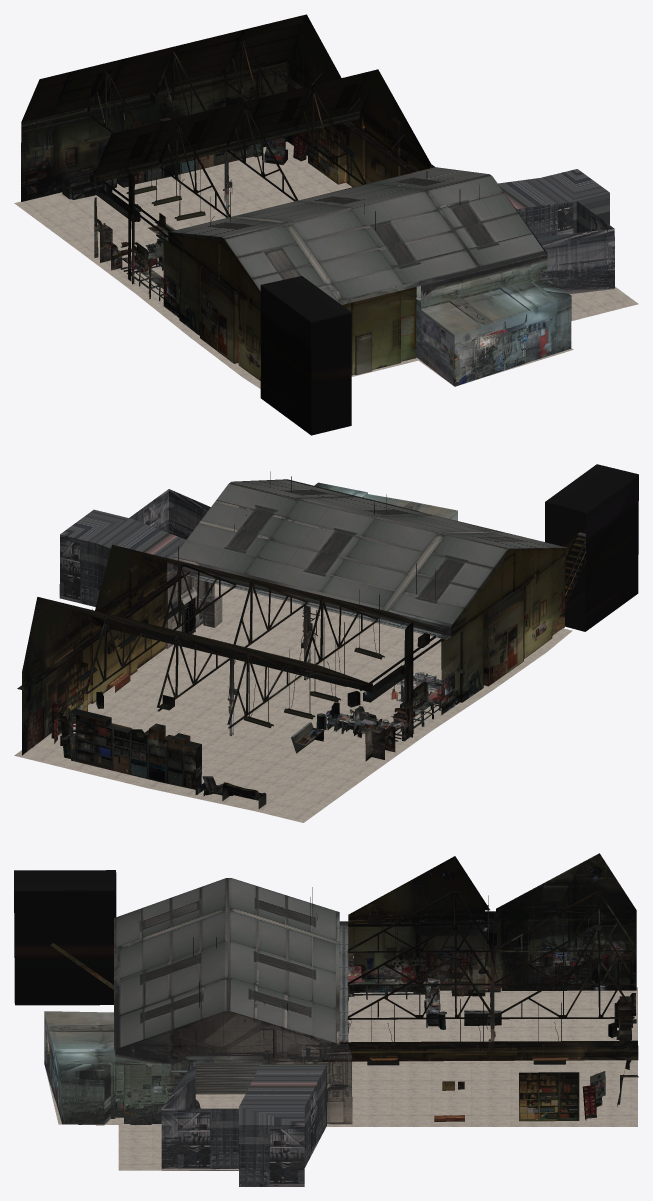
File: FVRBOW5K28TUGPPV2673XRH9I.obj
3 views of the same model, one above another, from view 1: azimuth 30°, elevation 25°; view 2: azimuth 150°, elevation 25°; view 3: azimuth 270°, elevation 25° (orthographic). The views are drawn at different scales.
Visible parts, largest first — view 1: Object_WallsA_D.jpg, Object_WallsB_D.jpg, Object_Ground_D.jpg; view 2: Object_WallsA_D.jpg, Object_WallsB_D.jpg, Object_Ground_D.jpg, Object_Pillars_D.jpg; view 3: Object_WallsA_D.jpg, Object_WallsB_D.jpg, Object_Ground_D.jpg.
Boxes of the visible parts, <box> form: Object_WallsA_D.jpg: <box>85,74,614,435</box>; Object_WallsB_D.jpg: <box>21,14,438,300</box>; Object_Ground_D.jpg: <box>14,141,638,388</box>; Object_WallsA_D.jpg: <box>59,464,638,728</box>; Object_WallsB_D.jpg: <box>17,515,444,808</box>; Object_Ground_D.jpg: <box>14,583,572,822</box>; Object_Pillars_D.jpg: <box>227,602,319,735</box>; Object_WallsA_D.jpg: <box>14,870,598,1186</box>; Object_WallsB_D.jpg: <box>264,853,638,1121</box>; Object_Ground_D.jpg: <box>45,987,637,1170</box>.
Bounding box in the file's own units: 1.91 × 0.7756 × 2.5.
5 materials, 5 textured.
